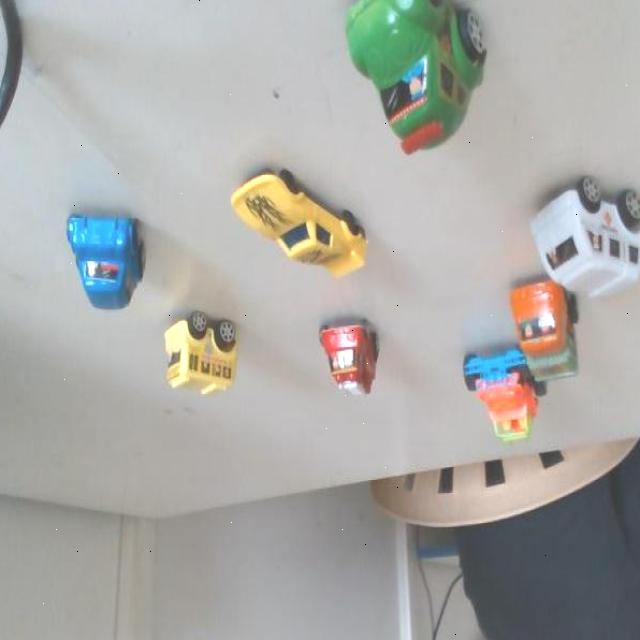car: (322, 0, 511, 165), (513, 154, 640, 321), (230, 155, 369, 284), (451, 345, 535, 452), (161, 298, 249, 399), (62, 204, 143, 310), (510, 271, 579, 392), (317, 302, 390, 408)
